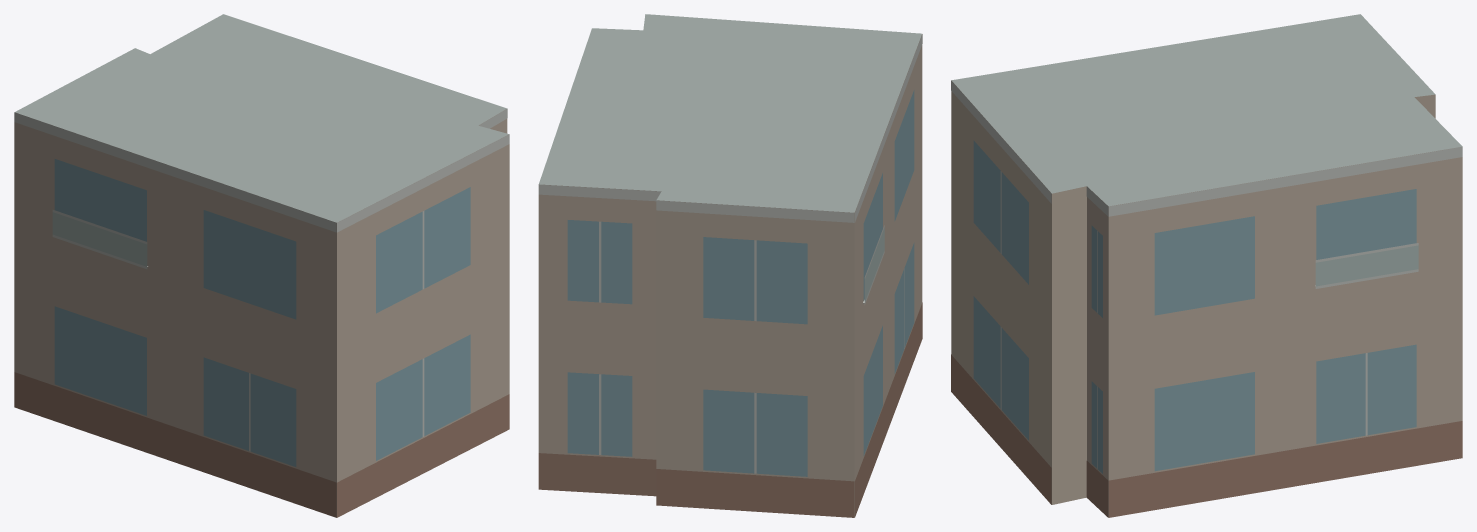
Rendered from survey-upis-32491855.glb.
The picture shows the model from 3 angles, left to right: view 1: azimuth 30°, elevation 25°; view 2: azimuth 150°, elevation 25°; view 3: azimuth 270°, elevation 25°; orthographic projection. The views are drawn at different scales.
Parts seen in each view (by area): view 1: survey-upis-32491855.tmp; view 2: survey-upis-32491855.tmp; view 3: survey-upis-32491855.tmp.
Part boxes in pixels (x1=…): survey-upis-32491855.tmp: x1=14, y1=14, x2=509, y2=517; survey-upis-32491855.tmp: x1=538, y1=14, x2=922, y2=517; survey-upis-32491855.tmp: x1=951, y1=14, x2=1462, y2=517.
Size of the model in its own units: 9.68 by 7.3 by 10.87.
